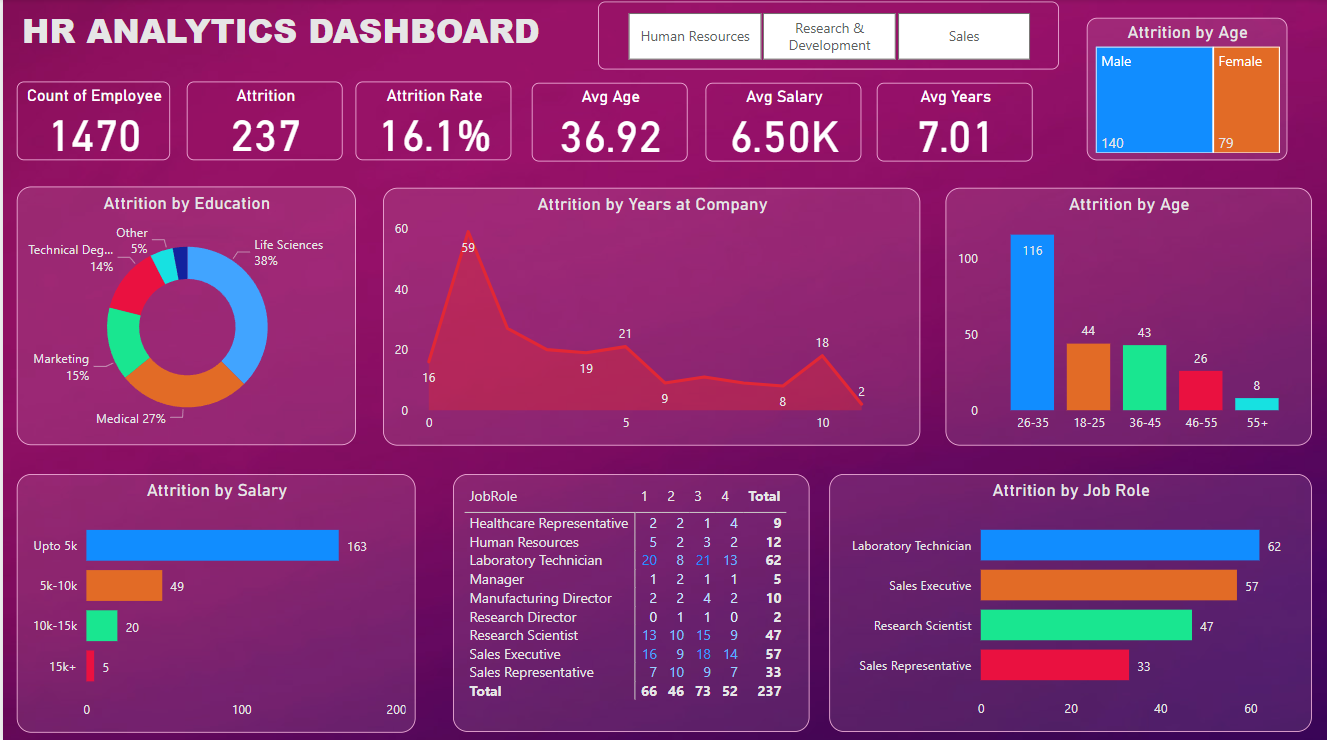

The dashboard page shown, as its layout file describes it:
{"tool":"powerbi","page":{"name":"Page 1","canvas":[1280,720],"ordinal":0},"visuals":[{"type":"card","title":"Count of Employee","fields":{"Values":["CountNonNull(HR_Analytics.EmpID)"]},"box":[13.3,79.6,148.3,76],"z":0},{"type":"card","title":"Attrition","fields":{"Values":["Sum(HR_Analytics.AttritionCount)"]},"box":[177.3,79.6,150.8,76],"z":1000},{"type":"card","title":"Attrition Rate","fields":{"Values":["HR_Analytics.Attrition Rate"]},"box":[340.1,79.6,150.8,76],"z":2000},{"type":"card","title":"Avg  Age","fields":{"Values":["Avg(HR_Analytics.Age)"]},"box":[510.2,80.8,150.8,76],"z":3000},{"type":"card","title":"Avg Salary","fields":{"Values":["Avg(HR_Analytics.MonthlyIncome)"]},"box":[677.8,80.8,150.8,76],"z":4000},{"type":"card","title":"Avg Years","fields":{"Values":["Avg(HR_Analytics.YearsAtCompany)"]},"box":[843,80.8,150.8,76],"z":5000},{"type":"donutChart","title":"Attrition by Education","fields":{"Category":["HR_Analytics.EducationField"],"Y":["Sum(HR_Analytics.AttritionCount)"]},"box":[13.3,180.9,326.8,249.6],"z":6000},{"type":"columnChart","title":"Attrition by Age","fields":{"Category":["HR_Analytics.AgeGroup"],"Y":["Sum(HR_Analytics.AttritionCount)"]},"box":[909.3,182.1,353.4,248.4],"z":7000},{"type":"pivotTable","fields":{"Rows":["HR_Analytics.JobRole"],"Columns":["HR_Analytics.JobSatisfaction"],"Values":["Sum(HR_Analytics.AttritionCount)"]},"box":[434.2,458.3,343.7,248.4],"z":8000},{"type":"barChart","title":"Attrition by Salary","fields":{"Category":["HR_Analytics.SalarySlab"],"Y":["Sum(HR_Analytics.AttritionCount)"]},"box":[13.3,458.3,384.7,249.6],"z":9000},{"type":"barChart","title":"Attrition by Job Role","fields":{"Category":["HR_Analytics.JobRole"],"Y":["Sum(HR_Analytics.AttritionCount)"]},"box":[797.2,458.3,465.5,248.4],"z":10000},{"type":"areaChart","title":"Attrition by Years at Company","fields":{"Category":["HR_Analytics.YearsAtCompany"],"Y":["Sum(HR_Analytics.AttritionCount)"]},"box":[366.6,182.1,518.6,248.4],"z":11000},{"type":"treemap","title":"Attrition by Age","fields":{"Group":["HR_Analytics.Gender"],"Values":["Sum(HR_Analytics.AttritionCount)"]},"box":[1046.1,18.5,193.3,137.9],"z":12000},{"type":"slicer","fields":{"Values":["HR_Analytics.Department"]},"box":[574.2,2.8,444.9,65.4],"z":13000},{"type":"textbox","box":[13.3,2.4,527,65.1],"z":14000}]}

Visuals, with their boxes in screenshot pixels (x1, y1, x2, y2), scaled from the page's 1280x720 canvas onto the 1327x740 screenshot:
"Count of Employee" card: 14, 82, 168, 160
"Attrition" card: 184, 82, 340, 160
"Attrition Rate" card: 353, 82, 509, 160
"Avg  Age" card: 529, 83, 685, 161
"Avg Salary" card: 703, 83, 859, 161
"Avg Years" card: 874, 83, 1030, 161
"Attrition by Education" donutChart: 14, 186, 353, 442
"Attrition by Age" columnChart: 943, 187, 1309, 442
pivotTable - HR_Analytics.JobRole x HR_Analytics.JobSatisfaction: 450, 471, 806, 726
"Attrition by Salary" barChart: 14, 471, 413, 728
"Attrition by Job Role" barChart: 826, 471, 1309, 726
"Attrition by Years at Company" areaChart: 380, 187, 918, 442
"Attrition by Age" treemap: 1085, 19, 1285, 161
slicer - HR_Analytics.Department: 595, 3, 1057, 70
textbox: 14, 2, 560, 69
